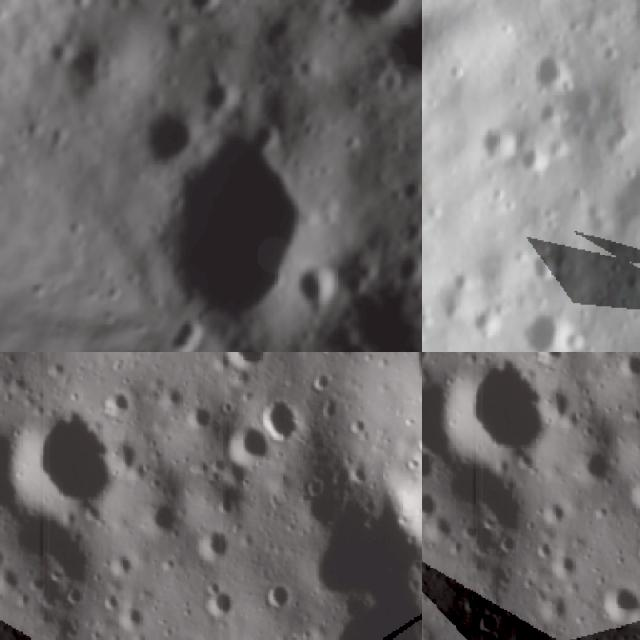crater: (112, 98, 357, 342), (13, 413, 117, 522), (446, 361, 550, 470), (130, 97, 212, 181), (277, 250, 354, 324), (47, 29, 121, 105), (373, 0, 422, 100), (315, 595, 422, 640), (319, 0, 422, 43), (519, 297, 582, 352), (195, 68, 250, 125), (422, 365, 458, 448), (469, 112, 523, 167), (398, 434, 422, 554), (158, 297, 216, 346), (364, 55, 413, 108), (524, 43, 578, 90), (225, 418, 274, 465), (258, 393, 300, 447), (0, 417, 25, 500), (512, 135, 561, 175), (312, 327, 386, 352), (200, 579, 238, 627), (598, 581, 640, 624), (540, 384, 578, 430), (143, 491, 181, 536), (576, 439, 614, 484), (108, 436, 144, 482), (53, 210, 92, 247), (178, 0, 233, 26), (614, 150, 640, 204), (527, 244, 560, 284), (199, 528, 230, 564), (104, 383, 132, 420), (116, 602, 145, 634), (549, 550, 578, 582), (102, 548, 134, 576), (536, 496, 566, 524), (538, 591, 566, 620), (224, 352, 265, 370), (422, 447, 442, 483), (422, 487, 442, 520), (266, 582, 293, 605), (477, 608, 499, 632), (536, 352, 565, 368), (632, 527, 640, 574), (0, 139, 8, 183), (0, 499, 9, 535), (0, 539, 9, 572), (632, 475, 640, 512)
